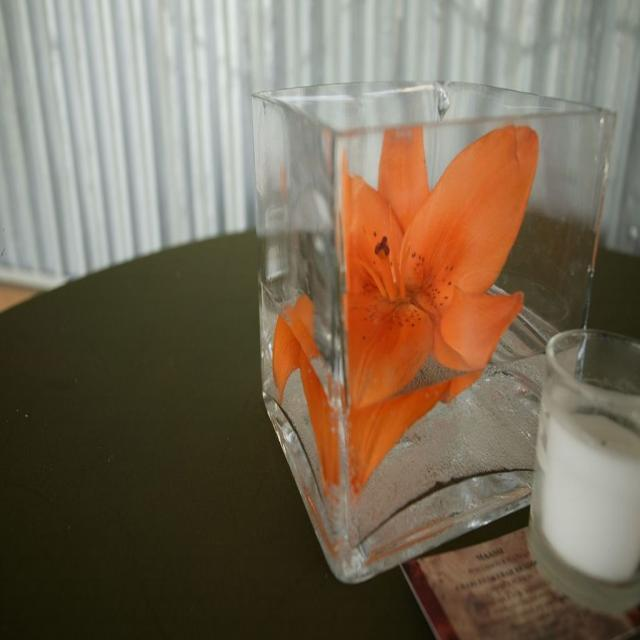Milk: (532, 328, 639, 614)
